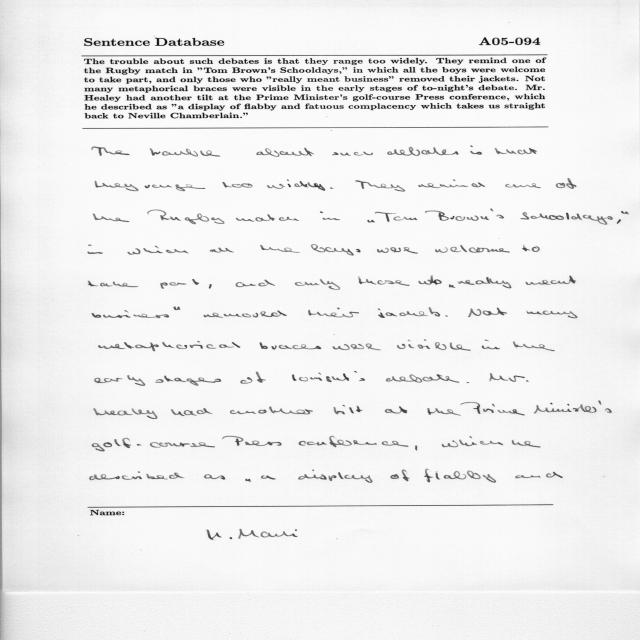word: (92, 438, 215, 451), (99, 341, 240, 351), (256, 371, 365, 383), (520, 212, 613, 225), (299, 436, 408, 447), (147, 210, 225, 224), (424, 469, 496, 483), (298, 470, 373, 483), (425, 209, 504, 221), (534, 401, 612, 413), (90, 472, 184, 481), (460, 402, 525, 415), (397, 340, 471, 351), (155, 375, 221, 386), (94, 408, 158, 419), (267, 179, 325, 191), (378, 307, 440, 318), (442, 436, 503, 447), (230, 407, 313, 415), (386, 374, 459, 383), (387, 147, 459, 156), (92, 310, 169, 318), (435, 245, 510, 253), (222, 436, 282, 446), (203, 311, 287, 318), (458, 277, 511, 288), (95, 375, 146, 386), (150, 149, 220, 157), (355, 181, 405, 192), (311, 245, 361, 256), (128, 246, 189, 255), (418, 180, 485, 188), (256, 148, 314, 157), (359, 276, 410, 286), (525, 275, 576, 285), (308, 308, 359, 318), (236, 214, 299, 222), (295, 279, 340, 290), (260, 343, 322, 350), (95, 181, 138, 191), (145, 184, 205, 191), (375, 212, 417, 222), (513, 342, 555, 352), (527, 311, 578, 319), (161, 279, 200, 289), (468, 308, 507, 317), (490, 373, 529, 382), (332, 344, 381, 351), (92, 147, 130, 156), (171, 408, 212, 416), (260, 245, 300, 253), (88, 281, 138, 287), (94, 214, 130, 222), (515, 472, 563, 478), (377, 247, 418, 254), (235, 280, 275, 287), (427, 408, 461, 416), (334, 405, 363, 414), (495, 148, 537, 154), (556, 178, 577, 189), (391, 470, 410, 482), (512, 440, 540, 448), (418, 276, 442, 285), (332, 151, 373, 156), (223, 182, 253, 188), (505, 183, 541, 188), (320, 212, 340, 221), (385, 406, 407, 414), (482, 340, 500, 349), (88, 244, 103, 254), (522, 245, 540, 252), (204, 474, 225, 480), (210, 248, 234, 253), (470, 146, 482, 155), (241, 377, 253, 384), (261, 476, 276, 480), (621, 211, 629, 214), (449, 284, 455, 288), (617, 219, 621, 224), (174, 307, 180, 310), (245, 479, 251, 482), (367, 220, 375, 222), (209, 284, 212, 289), (415, 445, 417, 450), (330, 187, 333, 189), (445, 315, 448, 317), (467, 382, 470, 383)
